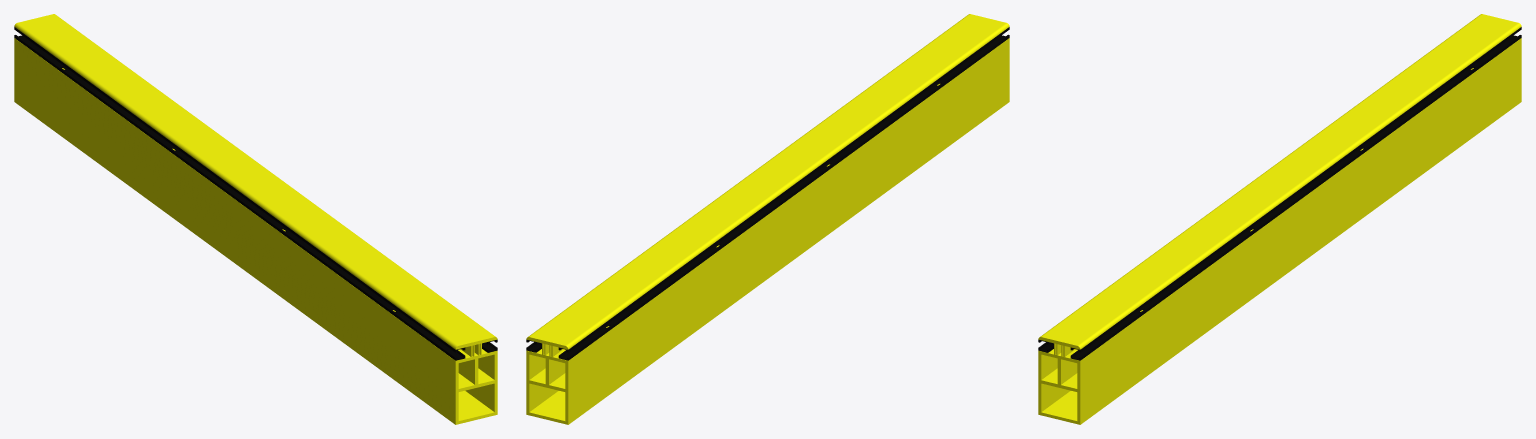
The model's file is rafterMiddle.glb.
3 renders of one model, left to right at view 1: azimuth 30°, elevation 25°; view 2: azimuth 150°, elevation 25°; view 3: azimuth 330°, elevation 25°, orthographic.
Visible parts, largest first — view 1: Group3, Trager_Deckel_Mittel_1m1, Group5, Group1; view 2: Group3, Trager_Deckel_Mittel_1m1, Group5, Group1; view 3: Group3, Trager_Deckel_Mittel_1m1, Group4, Group2.
Part boxes in pixels (x1=…): Group3: x1=14, y1=38, x2=497, y2=424; Trager_Deckel_Mittel_1m1: x1=14, y1=14, x2=497, y2=356; Group5: x1=14, y1=35, x2=465, y2=360; Group1: x1=14, y1=27, x2=465, y2=352; Group3: x1=526, y1=38, x2=1009, y2=424; Trager_Deckel_Mittel_1m1: x1=526, y1=14, x2=1009, y2=356; Group5: x1=558, y1=34, x2=1009, y2=360; Group1: x1=558, y1=27, x2=1009, y2=352; Group3: x1=1038, y1=38, x2=1521, y2=424; Trager_Deckel_Mittel_1m1: x1=1038, y1=14, x2=1521, y2=356; Group4: x1=1070, y1=35, x2=1521, y2=360; Group2: x1=1070, y1=27, x2=1521, y2=352.
Bounding box in the file's own units: 0.055 × 0.098 × 1.
3 materials, 2 textured.
